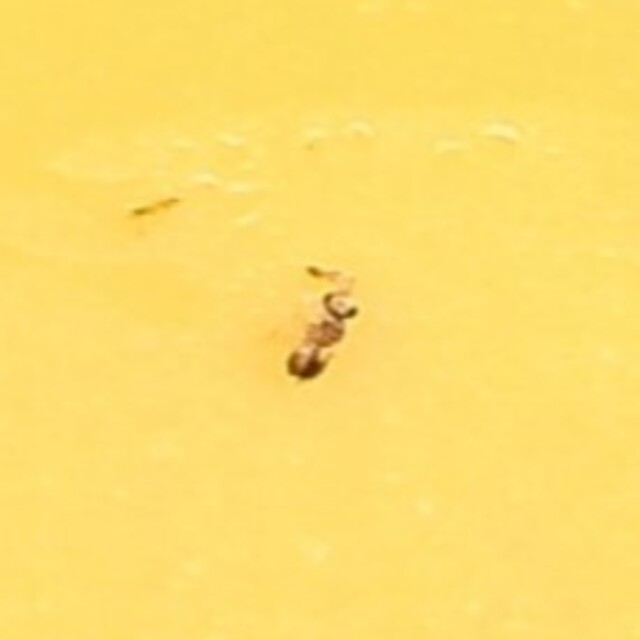Hymenoptera: (279, 259, 361, 381)
